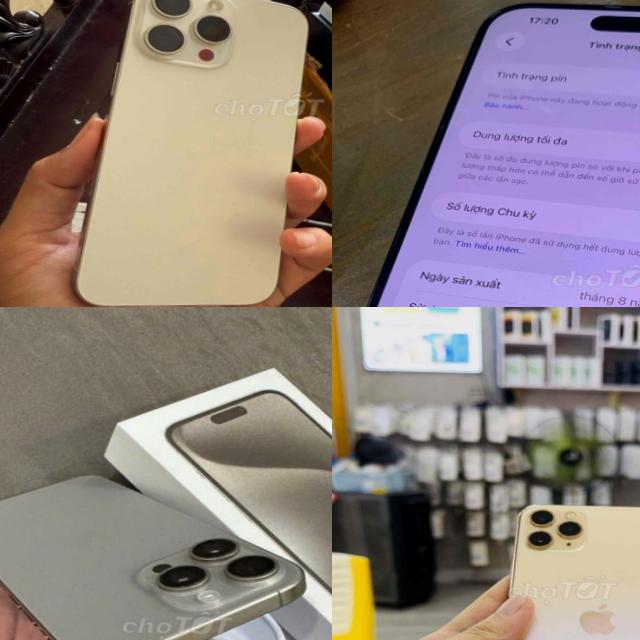gen_11: (485, 491, 640, 640)
gen_15: (332, 0, 640, 307), (73, 0, 307, 307), (0, 461, 308, 640)
